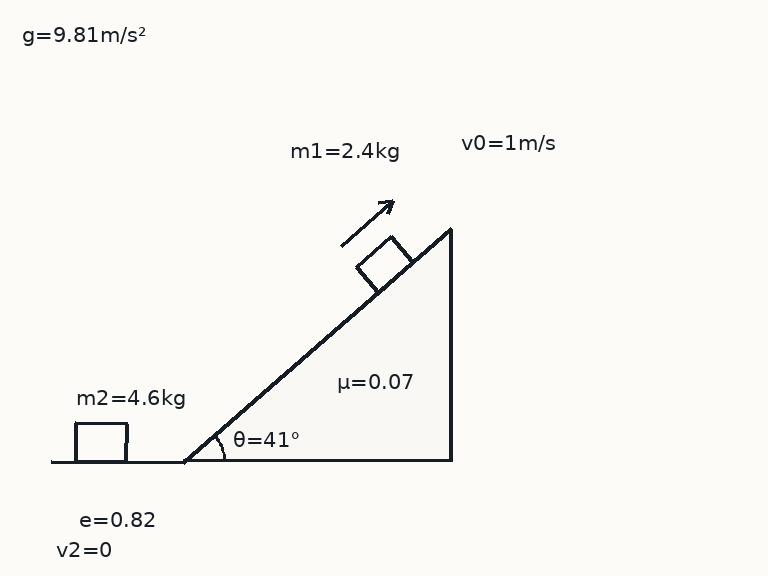block: (353, 235, 415, 295), (73, 422, 129, 463)
ramp: (182, 227, 453, 463)
